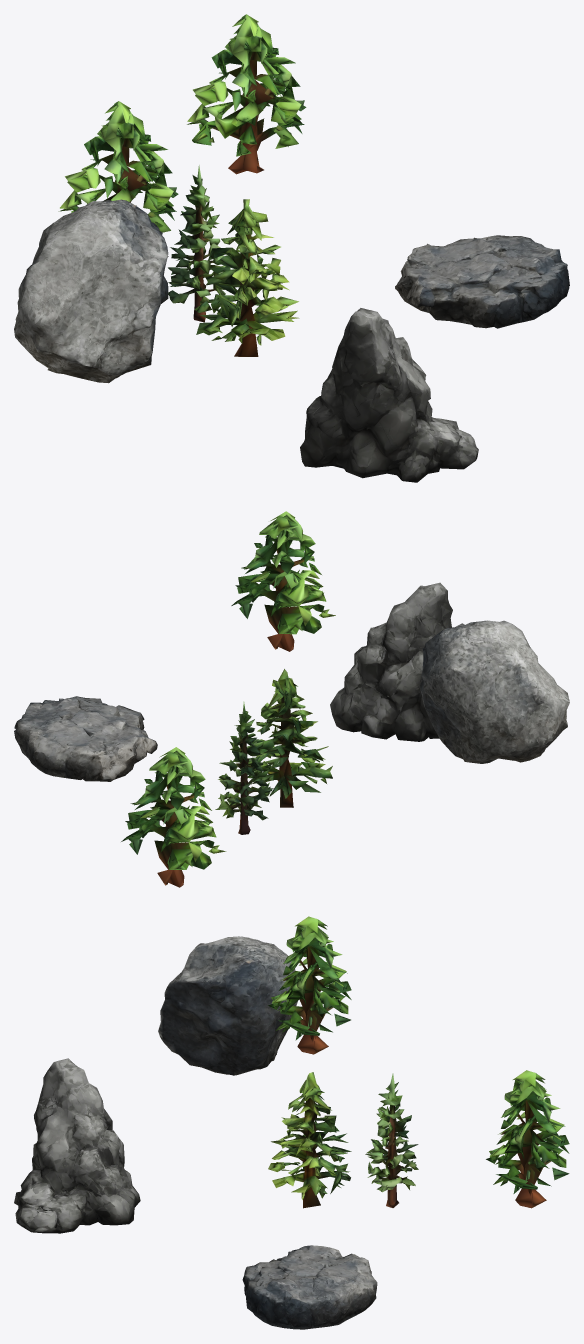
Rendered from natura.glb.
The picture shows the model from 3 angles, top to bottom: view 1: azimuth 30°, elevation 25°; view 2: azimuth 150°, elevation 25°; view 3: azimuth 270°, elevation 25°; orthographic projection. The views are drawn at different scales.
Parts seen in each view (by area): view 1: roccia1, roccia3, roccia2, albero3, albero4, albero2, albero1; view 2: roccia1, roccia3, roccia2, albero3, albero2, albero4, albero1; view 3: roccia3, roccia1, roccia2, albero3, albero2, albero4, albero1.
Boxes of the visible parts, left/top/right/bottom form: roccia1: left=14, top=199, right=168, bottom=383; roccia3: left=300, top=308, right=478, bottom=482; roccia2: left=395, top=235, right=569, bottom=328; albero3: left=187, top=14, right=306, bottom=174; albero4: left=195, top=199, right=299, bottom=356; albero2: left=58, top=101, right=178, bottom=232; albero1: left=168, top=165, right=230, bottom=322; roccia1: left=419, top=620, right=569, bottom=763; roccia3: left=330, top=582, right=452, bottom=741; roccia2: left=14, top=696, right=157, bottom=781; albero3: left=231, top=511, right=335, bottom=651; albero2: left=121, top=747, right=226, bottom=887; albero4: left=247, top=669, right=332, bottom=807; albero1: left=215, top=701, right=273, bottom=834; roccia3: left=14, top=1058, right=140, bottom=1233; roccia1: left=158, top=936, right=297, bottom=1075; roccia2: left=242, top=1245, right=377, bottom=1329; albero3: left=268, top=916, right=351, bottom=1054; albero2: left=486, top=1070, right=569, bottom=1208; albero4: left=268, top=1072, right=351, bottom=1208; albero1: left=365, top=1073, right=418, bottom=1207.
Bounding box in the file's own units: 3.89 × 2.17 × 3.78.
Materials: 7 (7 with a texture image).
